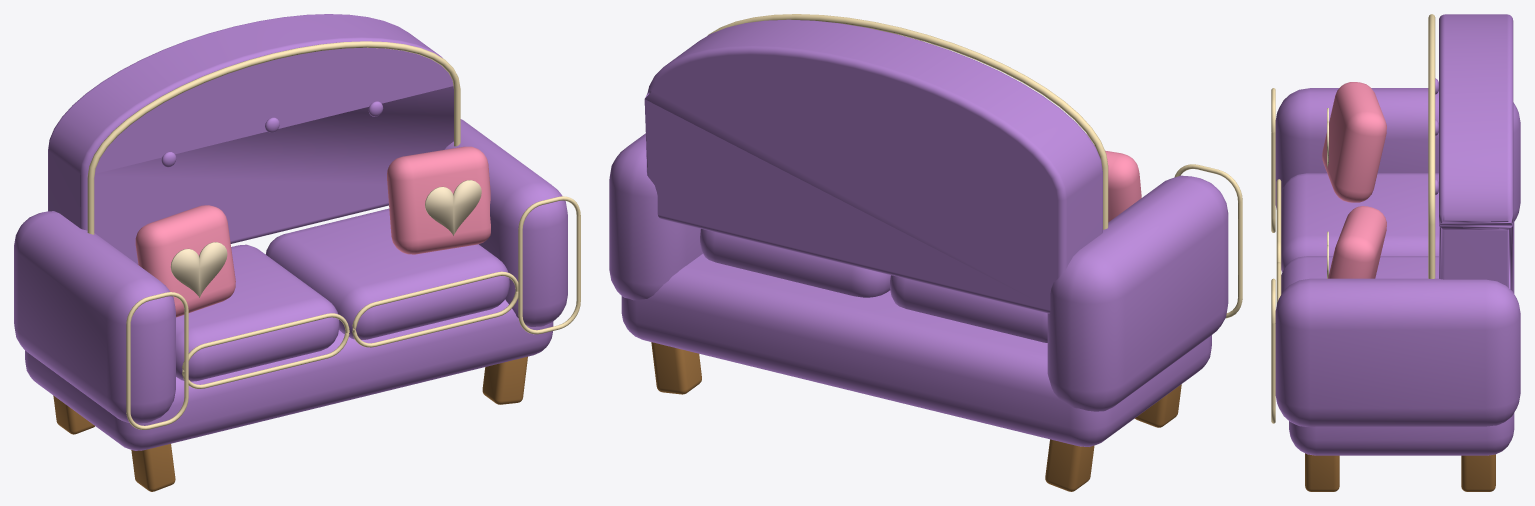
File: easy_couch_05.fbx
3 views of the same model, side by side, from view 1: azimuth 30°, elevation 25°; view 2: azimuth 150°, elevation 25°; view 3: azimuth 270°, elevation 25° (orthographic). The views are drawn at different scales.
Parts seen in each view (by area): view 1: EC05_LOD0; view 2: EC05_LOD0; view 3: EC05_LOD0.
Boxes of the visible parts, <box> form: EC05_LOD0: <box>14,14,580,491</box>; EC05_LOD0: <box>609,14,1242,491</box>; EC05_LOD0: <box>1271,14,1520,491</box>.
Size of what is drawn, in the model's own units: 2.12 by 1.55 by 1.01.
